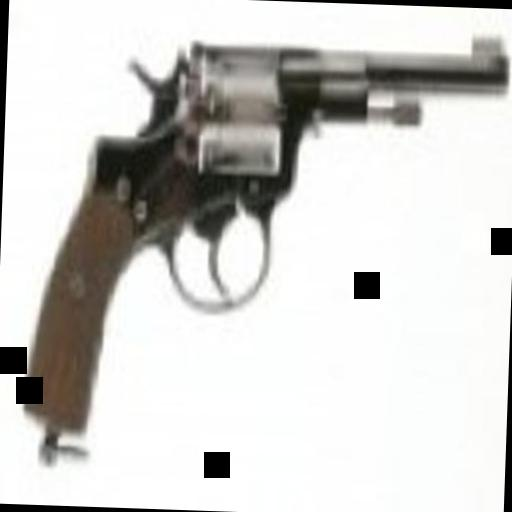Handgun: (18, 12, 499, 446)
